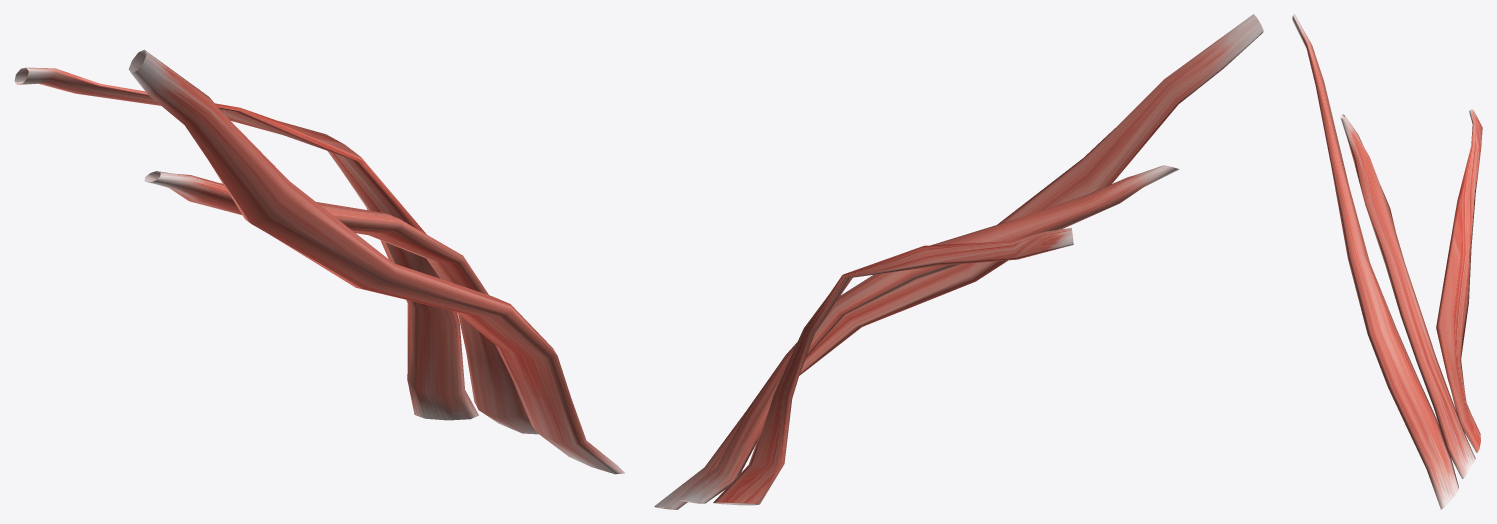
The model's file is Scalenus_Posterior_Muscle_Left.obj.
The picture shows the model from 3 angles, left to right: view 1: azimuth 30°, elevation 25°; view 2: azimuth 150°, elevation 25°; view 3: azimuth 270°, elevation 25°; orthographic projection. The views are drawn at different scales.
Visible parts, largest first — view 1: Scalenus_Posterior_Muscle_Left_01:Scalenus_Posterior_Muscle_01_L, Scalenus_Posterior_Muscle_Left_03:Scalenus_Posterior_Muscle_03_L, Scalenus_Posterior_Muscle_Left_02:Scalenus_Posterior_Muscle_02_L; view 2: Scalenus_Posterior_Muscle_Left_01:Scalenus_Posterior_Muscle_01_L, Scalenus_Posterior_Muscle_Left_02:Scalenus_Posterior_Muscle_02_L, Scalenus_Posterior_Muscle_Left_03:Scalenus_Posterior_Muscle_03_L; view 3: Scalenus_Posterior_Muscle_Left_01:Scalenus_Posterior_Muscle_01_L, Scalenus_Posterior_Muscle_Left_02:Scalenus_Posterior_Muscle_02_L, Scalenus_Posterior_Muscle_Left_03:Scalenus_Posterior_Muscle_03_L.
Part boxes in pixels (<box>): Scalenus_Posterior_Muscle_Left_01:Scalenus_Posterior_Muscle_01_L: <box>129,49,625,474</box>; Scalenus_Posterior_Muscle_Left_03:Scalenus_Posterior_Muscle_03_L: <box>14,67,478,420</box>; Scalenus_Posterior_Muscle_Left_02:Scalenus_Posterior_Muscle_02_L: <box>144,171,538,434</box>; Scalenus_Posterior_Muscle_Left_01:Scalenus_Posterior_Muscle_01_L: <box>654,14,1263,509</box>; Scalenus_Posterior_Muscle_Left_02:Scalenus_Posterior_Muscle_02_L: <box>676,165,1179,503</box>; Scalenus_Posterior_Muscle_Left_03:Scalenus_Posterior_Muscle_03_L: <box>713,227,1073,505</box>; Scalenus_Posterior_Muscle_Left_01:Scalenus_Posterior_Muscle_01_L: <box>1292,14,1458,509</box>; Scalenus_Posterior_Muscle_Left_02:Scalenus_Posterior_Muscle_02_L: <box>1340,114,1475,479</box>; Scalenus_Posterior_Muscle_Left_03:Scalenus_Posterior_Muscle_03_L: <box>1436,109,1482,452</box>.
Size of the model in its own units: 0.8075 by 0.8222 by 0.414.
